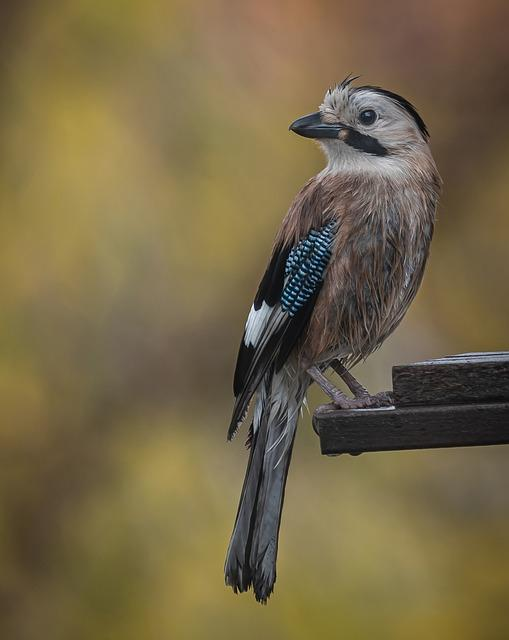Non_Gorille: (193, 42, 489, 634)
